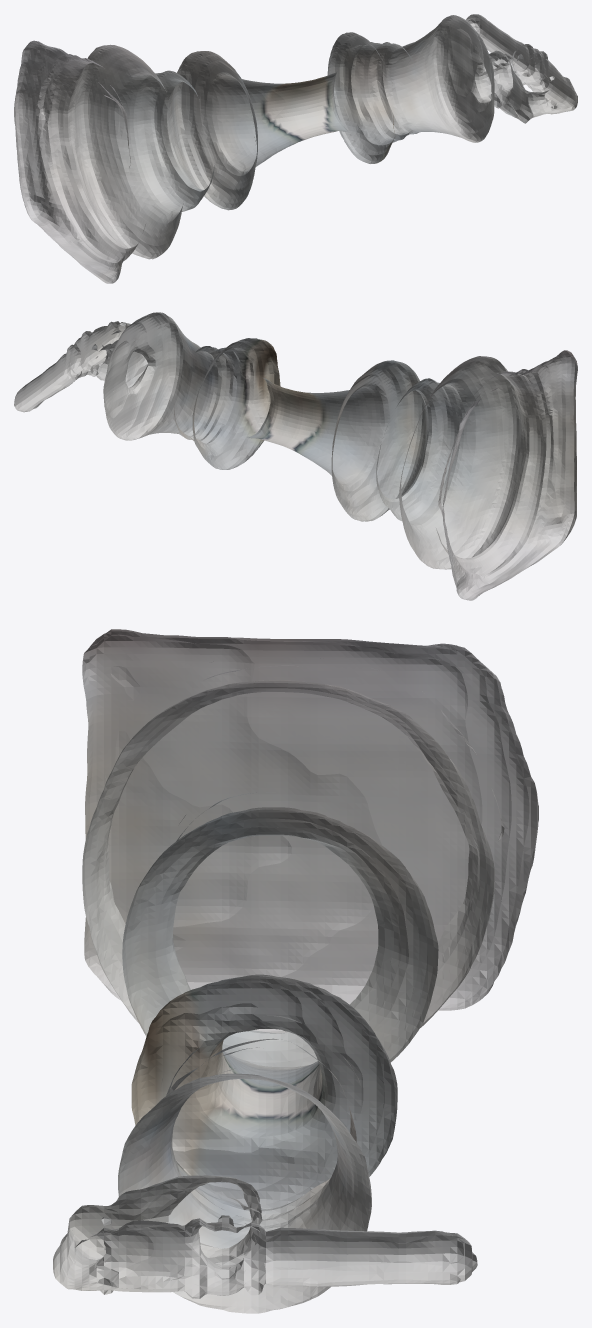
File: king.glb
3 views of the same model, one above another, from view 1: azimuth 30°, elevation 25°; view 2: azimuth 150°, elevation 25°; view 3: azimuth 270°, elevation 25° (orthographic). The views are drawn at different scales.
Visible parts, largest first — view 1: world; view 2: world; view 3: world.
Part boxes in pixels (bbox=[...]): world: bbox=[14, 14, 577, 283]; world: bbox=[14, 312, 577, 600]; world: bbox=[53, 629, 538, 1313].
Size of the model in its own units: 0.9997 by 0.4031 by 0.4508.
